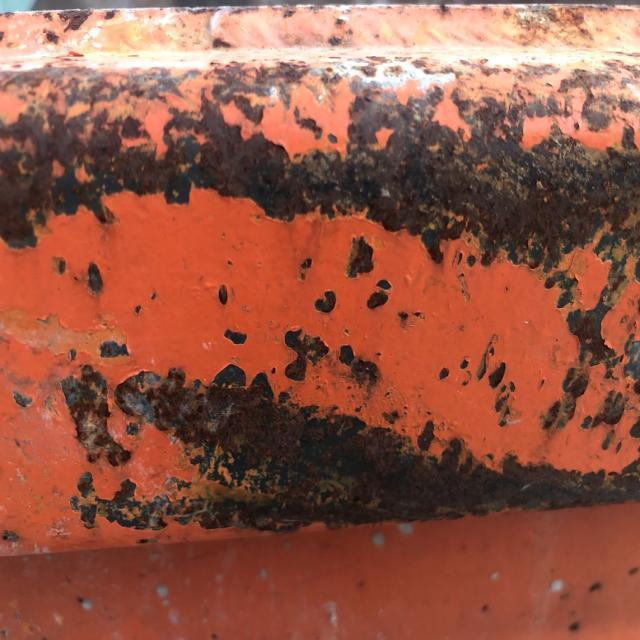Uniform Corrosion: (0, 5, 639, 553)
